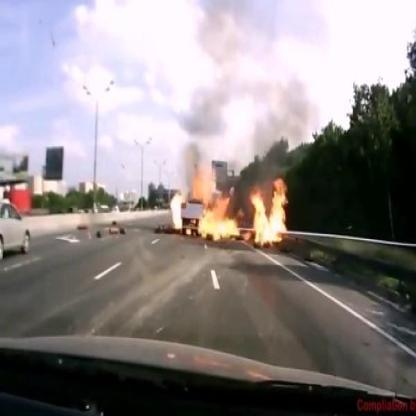fire: (192, 165, 289, 249), (168, 188, 183, 230)
